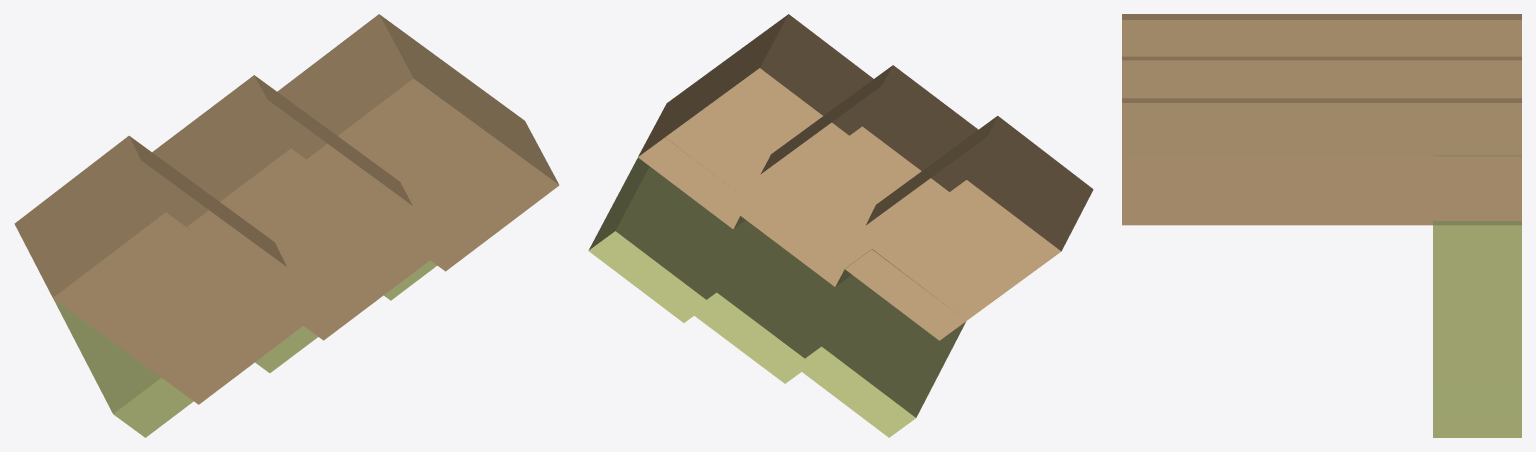
The picture shows the model from 3 angles, left to right: view 1: azimuth 30°, elevation 25°; view 2: azimuth 150°, elevation 25°; view 3: azimuth 270°, elevation 25°; orthographic projection. The views are drawn at different scales.
Parts seen in each view (by area): view 1: 0_0_1_1_2_2_0_2; view 2: 0_0_1_1_2_2_0_2; view 3: 0_0_1_1_2_2_0_2.
Boxes of the visible parts, x1,y1,x2,y2 form: 0_0_1_1_2_2_0_2: [14, 14, 559, 437]; 0_0_1_1_2_2_0_2: [588, 14, 1093, 437]; 0_0_1_1_2_2_0_2: [1122, 14, 1521, 437].
Size of the model in its own units: 48.98 by 34.23 by 27.
